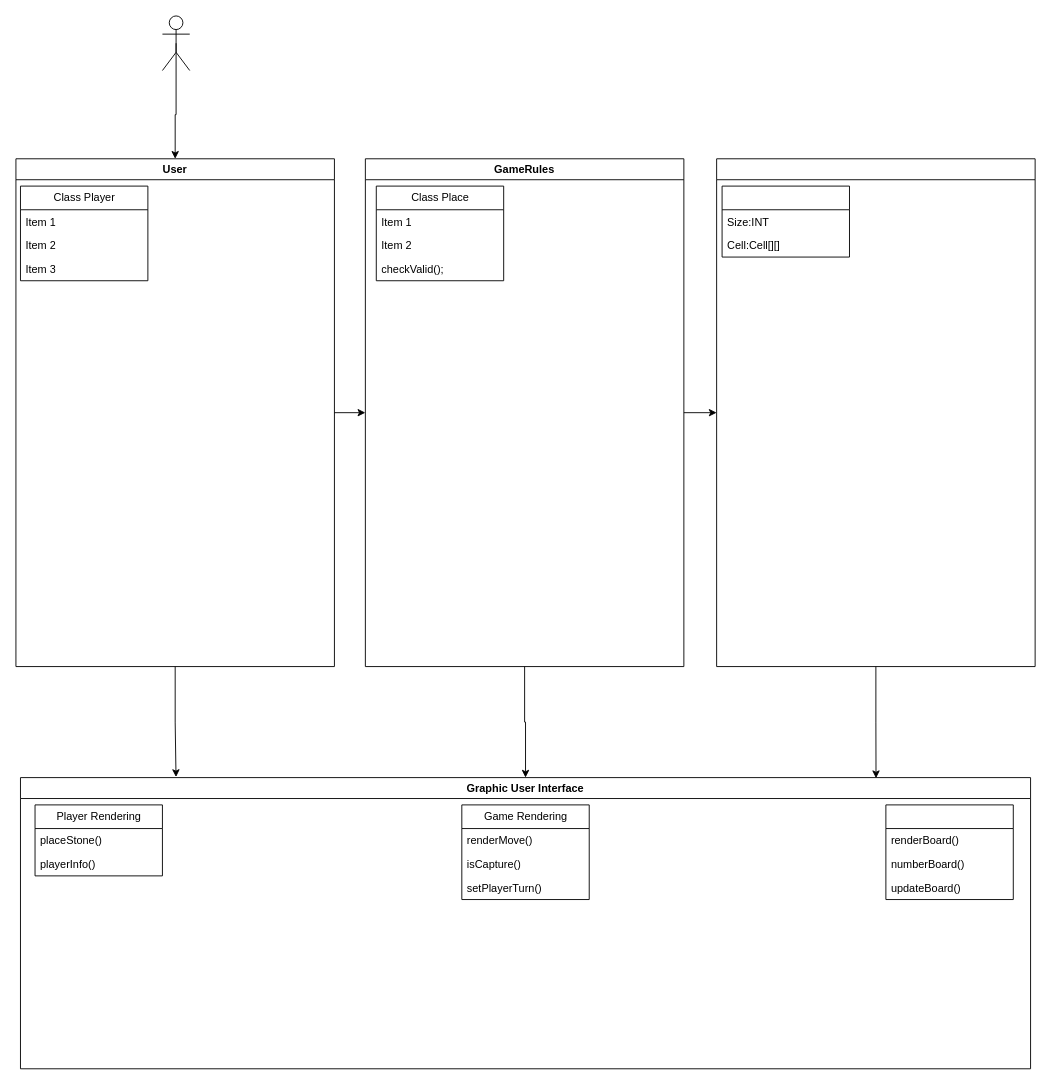
This 1051x1085 diagram has some shape labels left out. The shapes that lost their labels are listed below. From the top down, each one's box as (x1, y1, x2, y2) in pixels, then its label:
(162, 15, 190, 71): Actor
(721, 185, 849, 257): Class Hexagon
(716, 158, 1035, 667): Board
(885, 804, 1013, 900): Board Rendering
